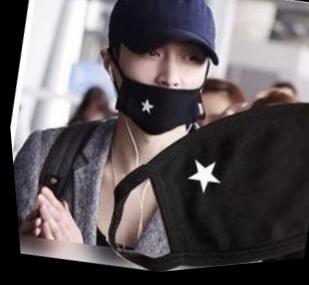WRONG: (100, 28, 217, 147)
